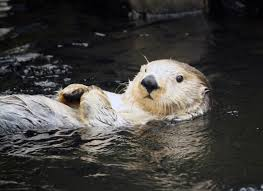otter: (100, 44, 221, 131)
